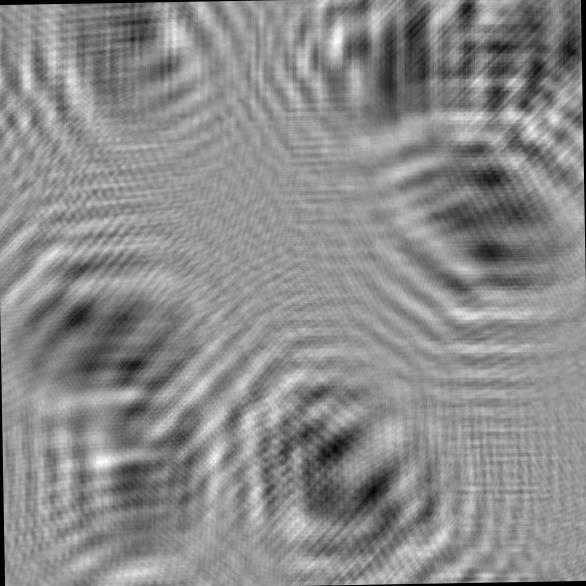K: (255, 0, 483, 185)
L: (16, 363, 237, 586), (11, 1, 251, 193)
M: (210, 338, 471, 586)
N: (366, 120, 586, 359), (0, 231, 229, 459), (417, 0, 584, 176)
